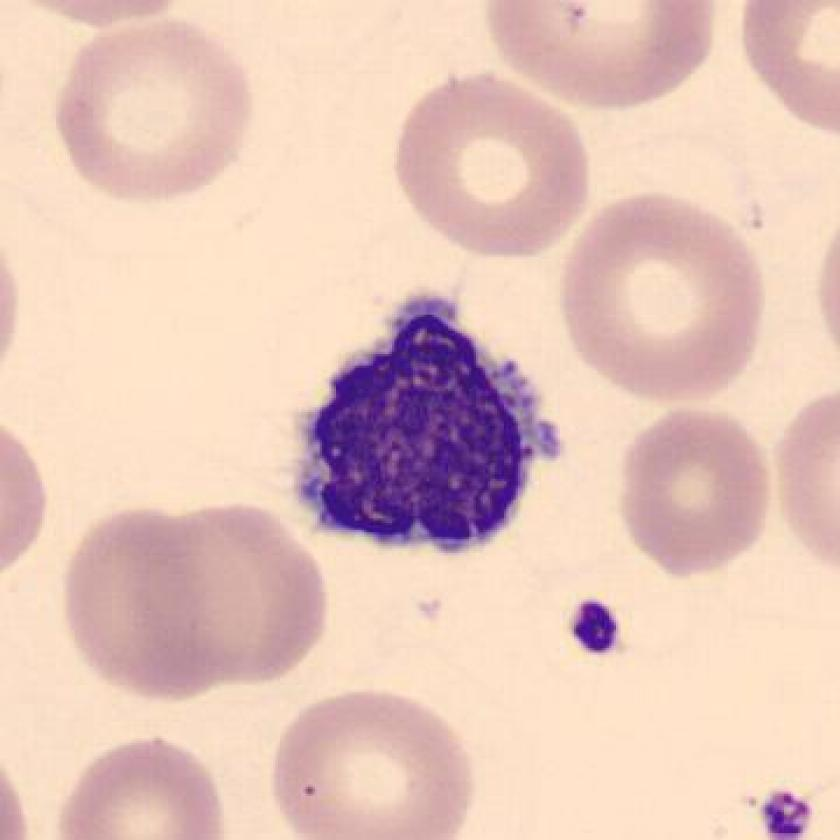lymphocyte: (281, 286, 580, 570)
